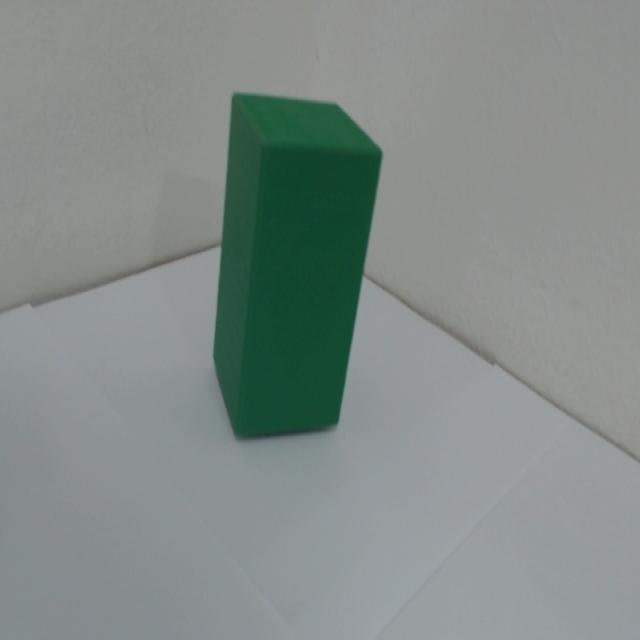cube: (167, 25, 390, 504)
